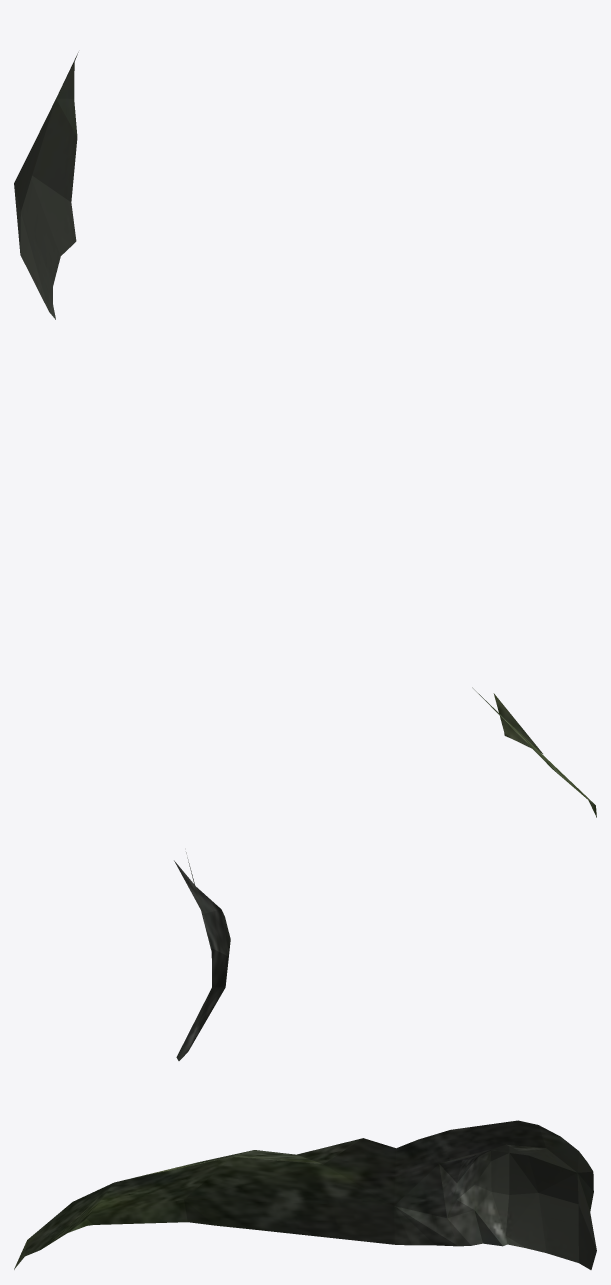
3 views of the same model, one above another, from view 1: azimuth 30°, elevation 25°; view 2: azimuth 150°, elevation 25°; view 3: azimuth 270°, elevation 25° (orthographic). The views are drawn at different scales.
Bounding box in the file's own units: 0.5106 × 0.7395 × 2.6.
Materials: 1 (1 with a texture image).
